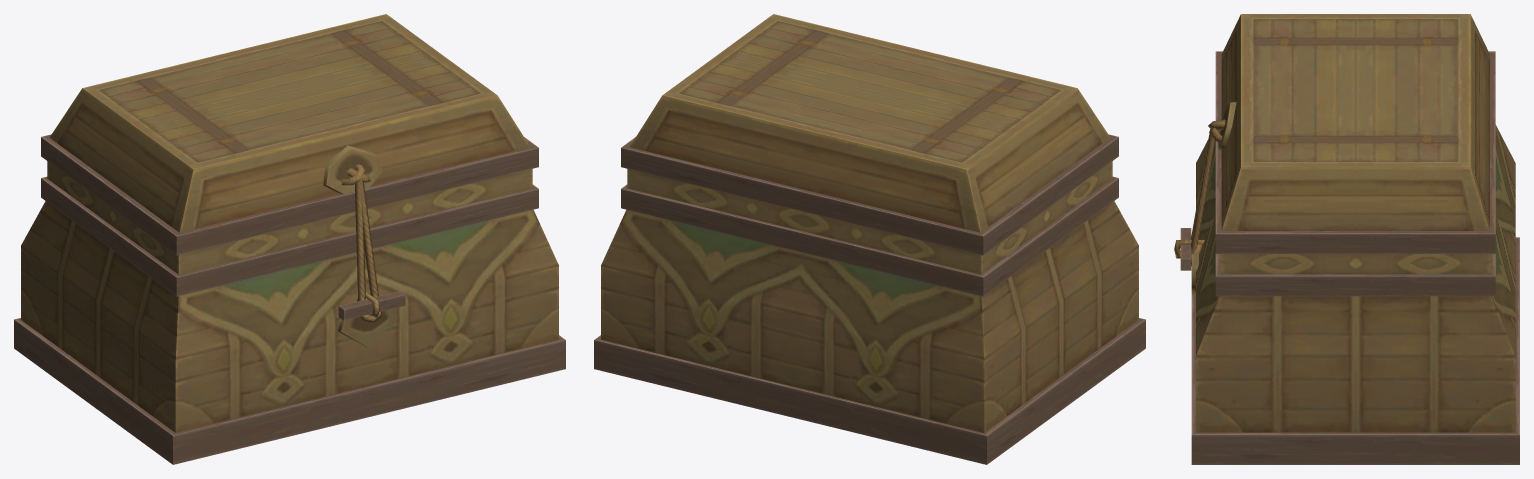
Rendered from Homeworld_Interior_Xm_Decoration_Prop_Xlyxiangzi_01_Lod0.fbx.
The picture shows the model from 3 angles, left to right: view 1: azimuth 30°, elevation 25°; view 2: azimuth 150°, elevation 25°; view 3: azimuth 270°, elevation 25°; orthographic projection. The views are drawn at different scales.
Visible parts, largest first — view 1: Area_Xm_Prop_DCL_Shineixiangzhii_01_Lod0; view 2: Area_Xm_Prop_DCL_Shineixiangzhii_01_Lod0; view 3: Area_Xm_Prop_DCL_Shineixiangzhii_01_Lod0.
Part boxes in pixels (bbox=[...]): Area_Xm_Prop_DCL_Shineixiangzhii_01_Lod0: bbox=[14, 14, 565, 464]; Area_Xm_Prop_DCL_Shineixiangzhii_01_Lod0: bbox=[594, 14, 1145, 464]; Area_Xm_Prop_DCL_Shineixiangzhii_01_Lod0: bbox=[1174, 14, 1519, 464].
Size of the model in its own units: 1.18 by 0.7667 by 0.8717.
